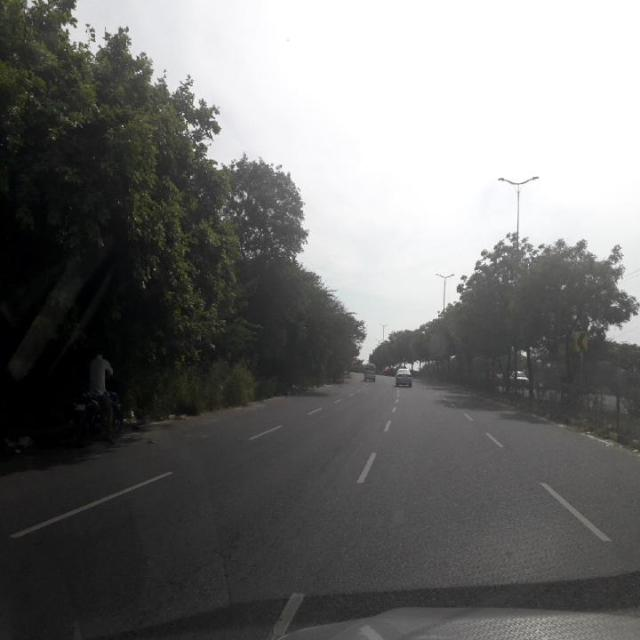D20: (133, 483, 311, 622)
